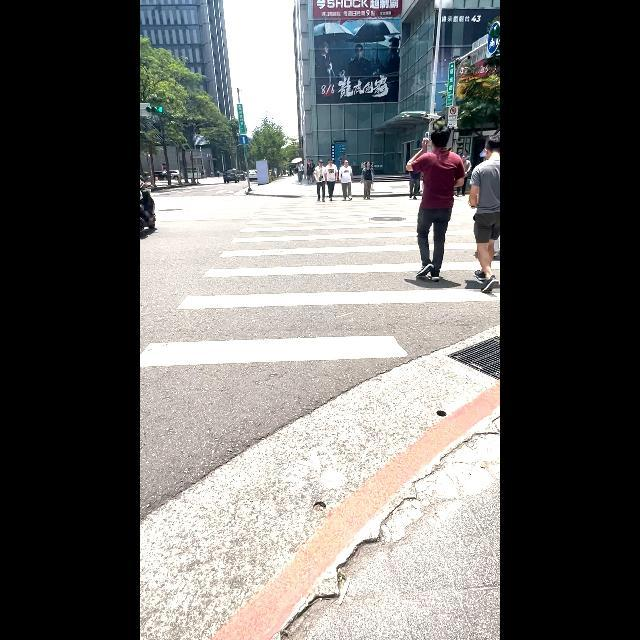sidewalk: (140, 203, 499, 368)
